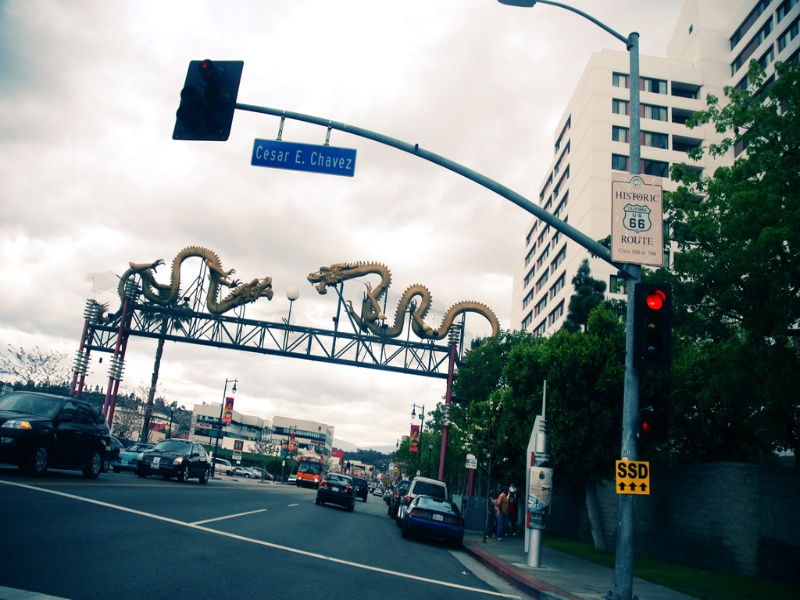red_light: (636, 282, 671, 314)
